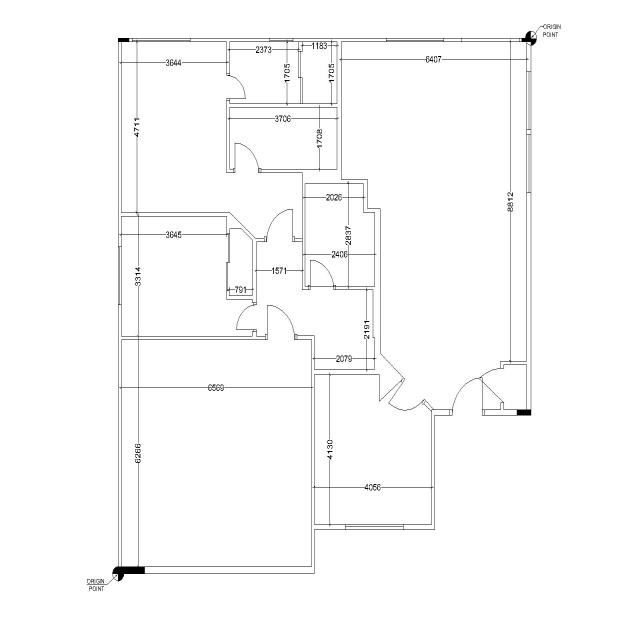Column: (118, 567, 145, 574), (517, 410, 531, 416), (118, 38, 129, 42), (522, 38, 531, 42)
Door: (380, 378, 426, 427), (449, 377, 485, 416), (265, 304, 297, 340), (264, 209, 295, 242), (479, 368, 504, 403), (233, 142, 261, 173), (308, 260, 336, 290), (236, 302, 257, 332), (226, 73, 246, 101)
Sliding Door: (298, 51, 303, 104), (226, 234, 230, 291)
Window: (526, 71, 532, 130), (345, 524, 404, 530), (526, 135, 532, 193), (132, 38, 190, 42), (386, 38, 444, 42), (118, 247, 122, 305), (270, 38, 293, 42)
